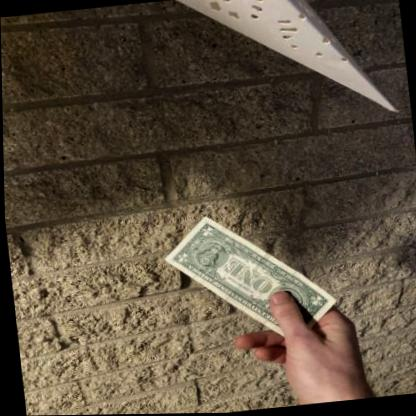one-back: (162, 216, 336, 346)
